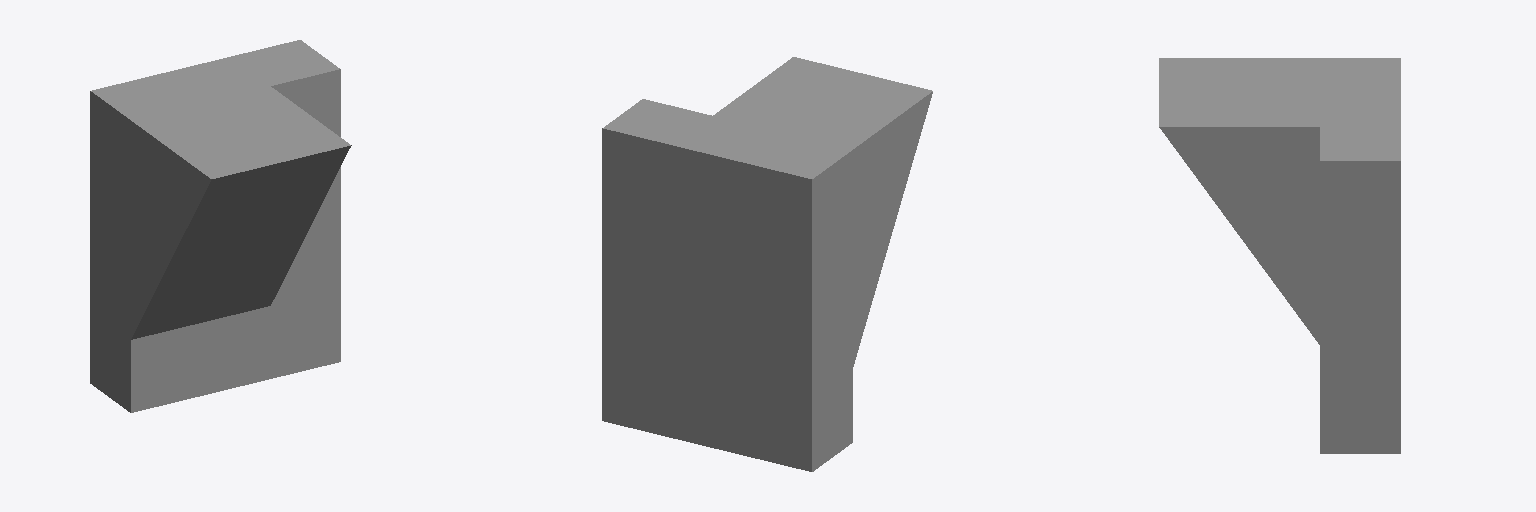
The model's file is E2-Rep07-p02.obj.
The picture shows the model from 3 angles: view 1: azimuth 30°, elevation 25°; view 2: azimuth 150°, elevation 25°; view 3: azimuth 270°, elevation 25°; orthographic projection.
Parts seen in each view (by area): view 1: mesh2, mesh4, mesh1, mesh3; view 2: mesh7, mesh4, mesh3; view 3: mesh5, mesh3, mesh0.
Boxes of the visible parts, x1,y1,x2,y2 form: mesh2: [131, 69, 340, 412]; mesh4: [90, 91, 211, 412]; mesh1: [131, 145, 351, 339]; mesh3: [91, 40, 350, 178]; mesh7: [602, 128, 811, 471]; mesh4: [812, 92, 932, 471]; mesh3: [603, 57, 932, 178]; mesh5: [1320, 161, 1400, 453]; mesh3: [1159, 58, 1400, 160]; mesh0: [1159, 127, 1319, 344].
Size of the model in its own units: 0.03 by 0.04 by 0.03.